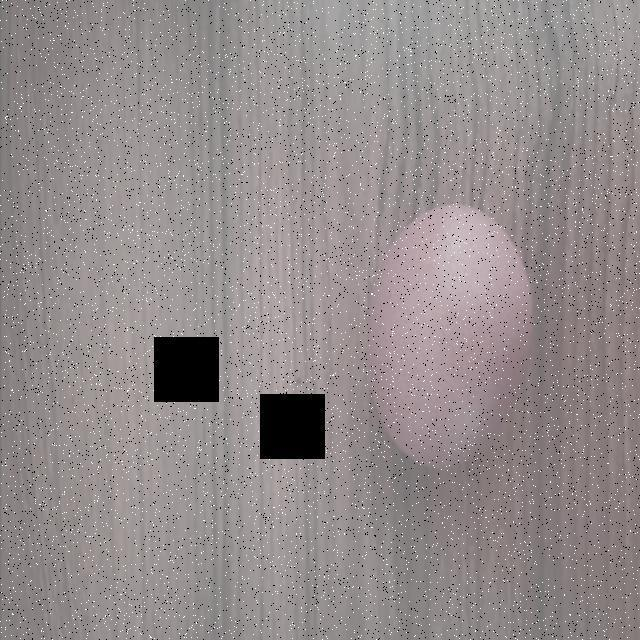egg: (356, 194, 542, 482)
